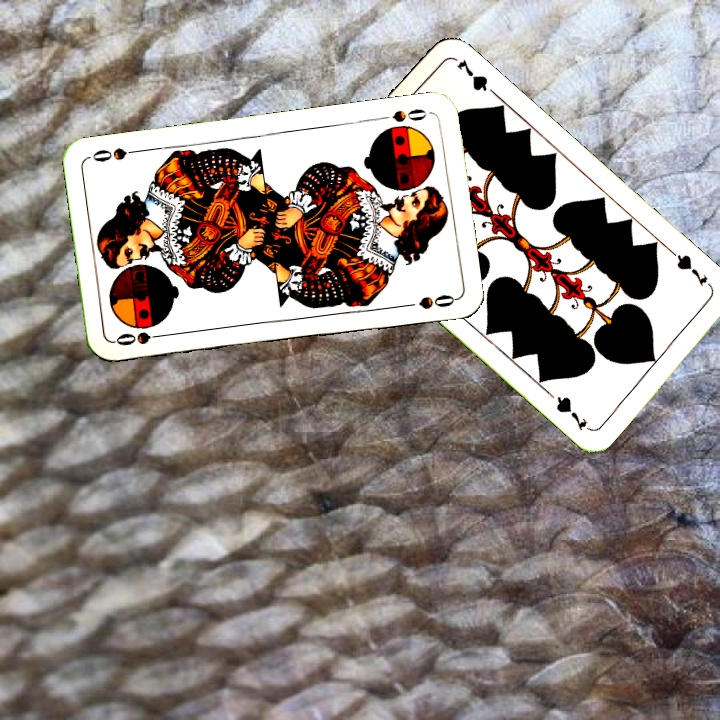G7: (667, 247, 716, 292)
SO: (111, 327, 170, 348), (374, 104, 433, 125)
